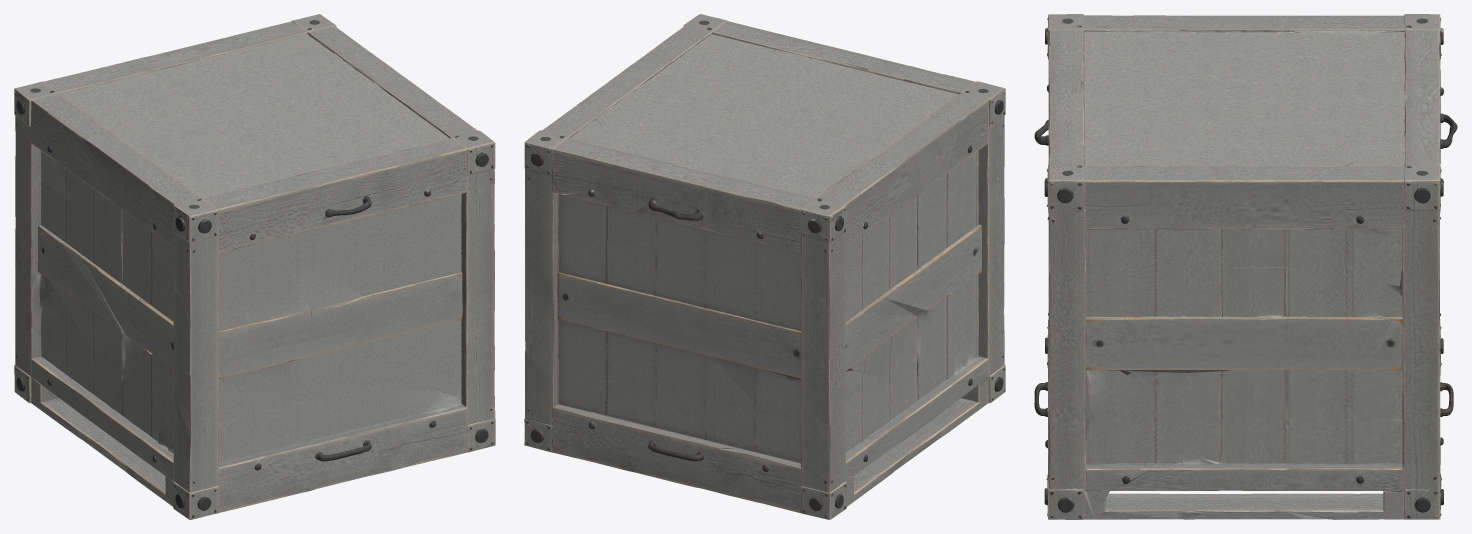
Rendered from wooden_crate.glb.
3 renders of one model, left to right at view 1: azimuth 30°, elevation 25°; view 2: azimuth 150°, elevation 25°; view 3: azimuth 270°, elevation 25°, orthographic. The views are drawn at different scales.
Size of the model in its own units: 1.82 by 1.71 by 1.92.
1 material, 1 textured.
